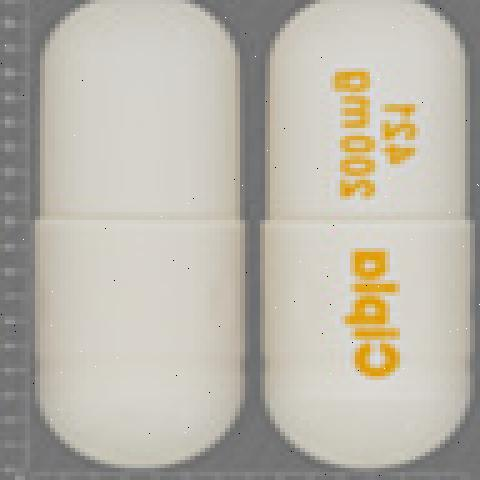Pill: (252, 0, 480, 470), (24, 0, 251, 472)
